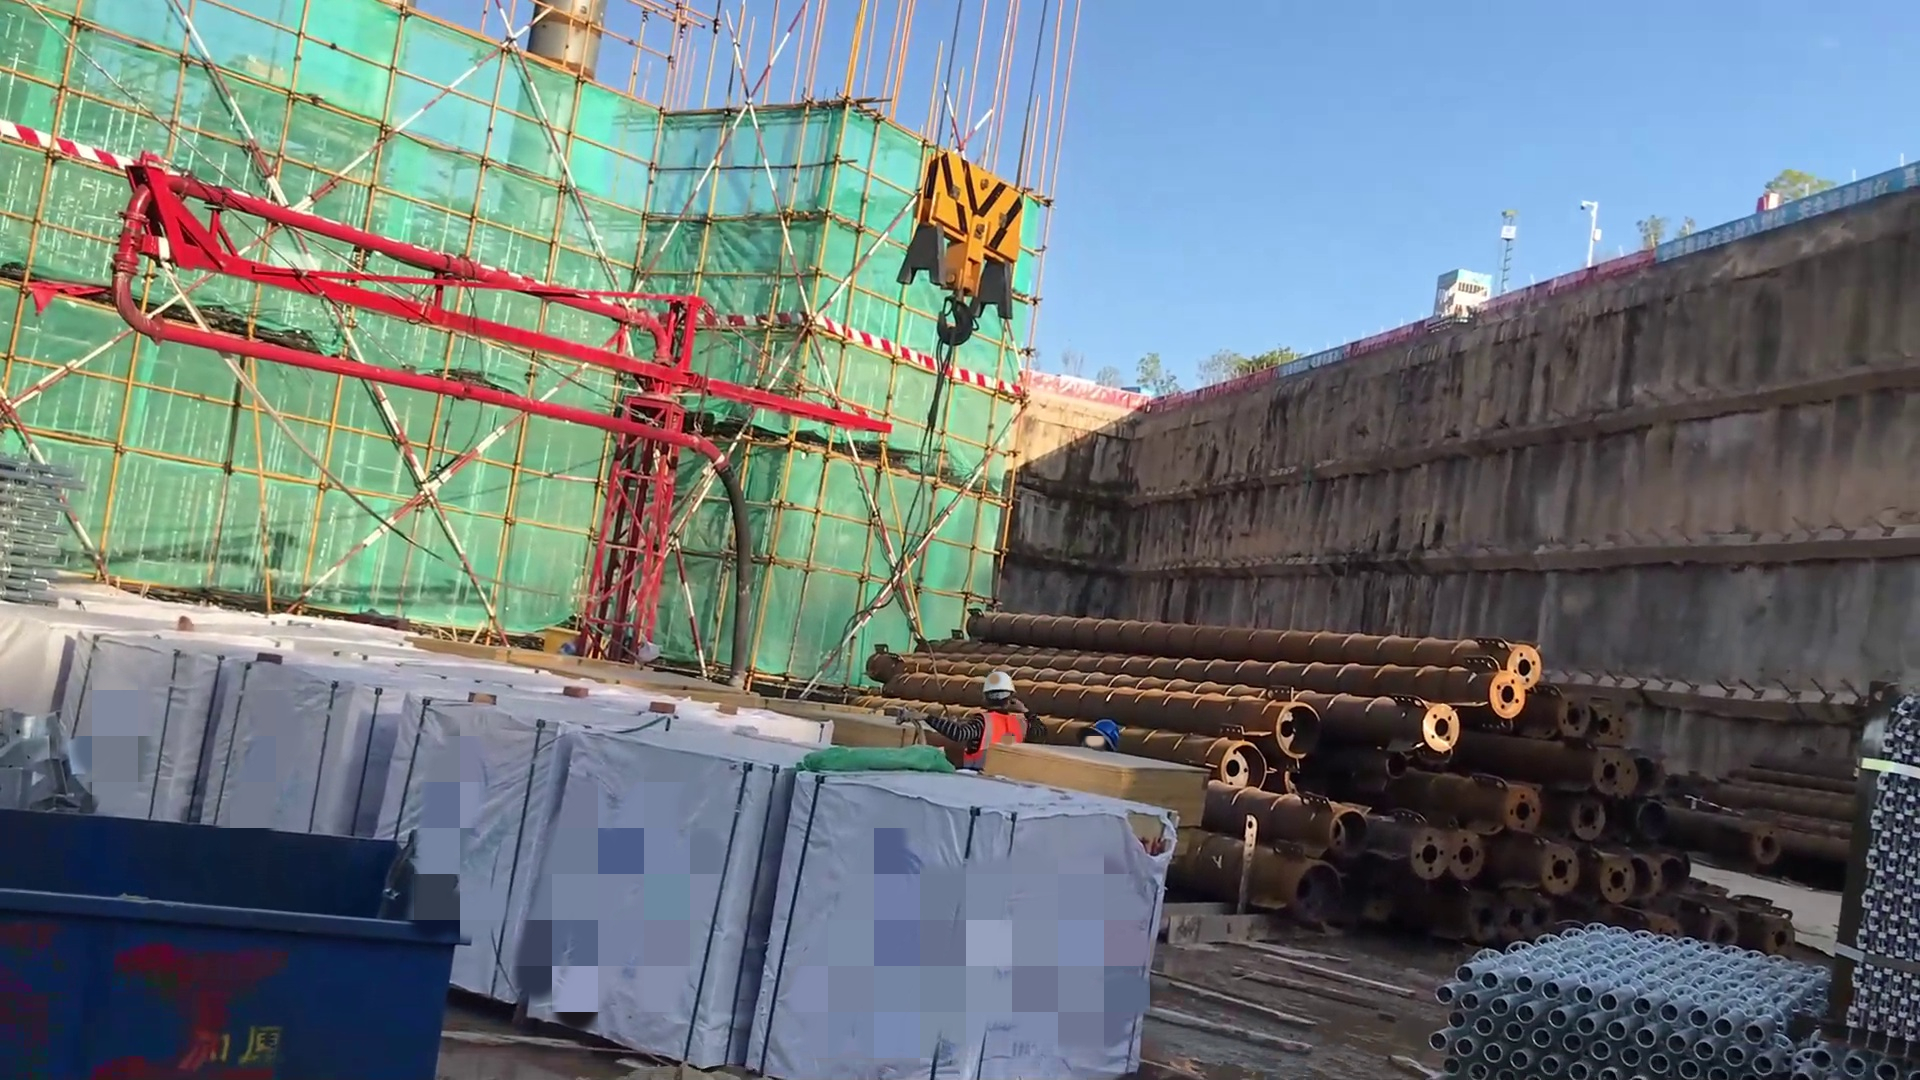board: (973, 737, 1208, 841)
ebox: (525, 632, 619, 669)
helmet: (1063, 712, 1126, 759), (962, 670, 1020, 716)
hook: (887, 155, 1063, 416)
hopper: (1, 824, 519, 1077)
person: (884, 665, 1043, 786)
scaffold: (1430, 892, 1828, 1080), (1845, 704, 1920, 1069), (1, 463, 97, 613)
slogan: (1654, 165, 1920, 270), (1277, 346, 1350, 388)
vest: (955, 712, 1027, 778)
